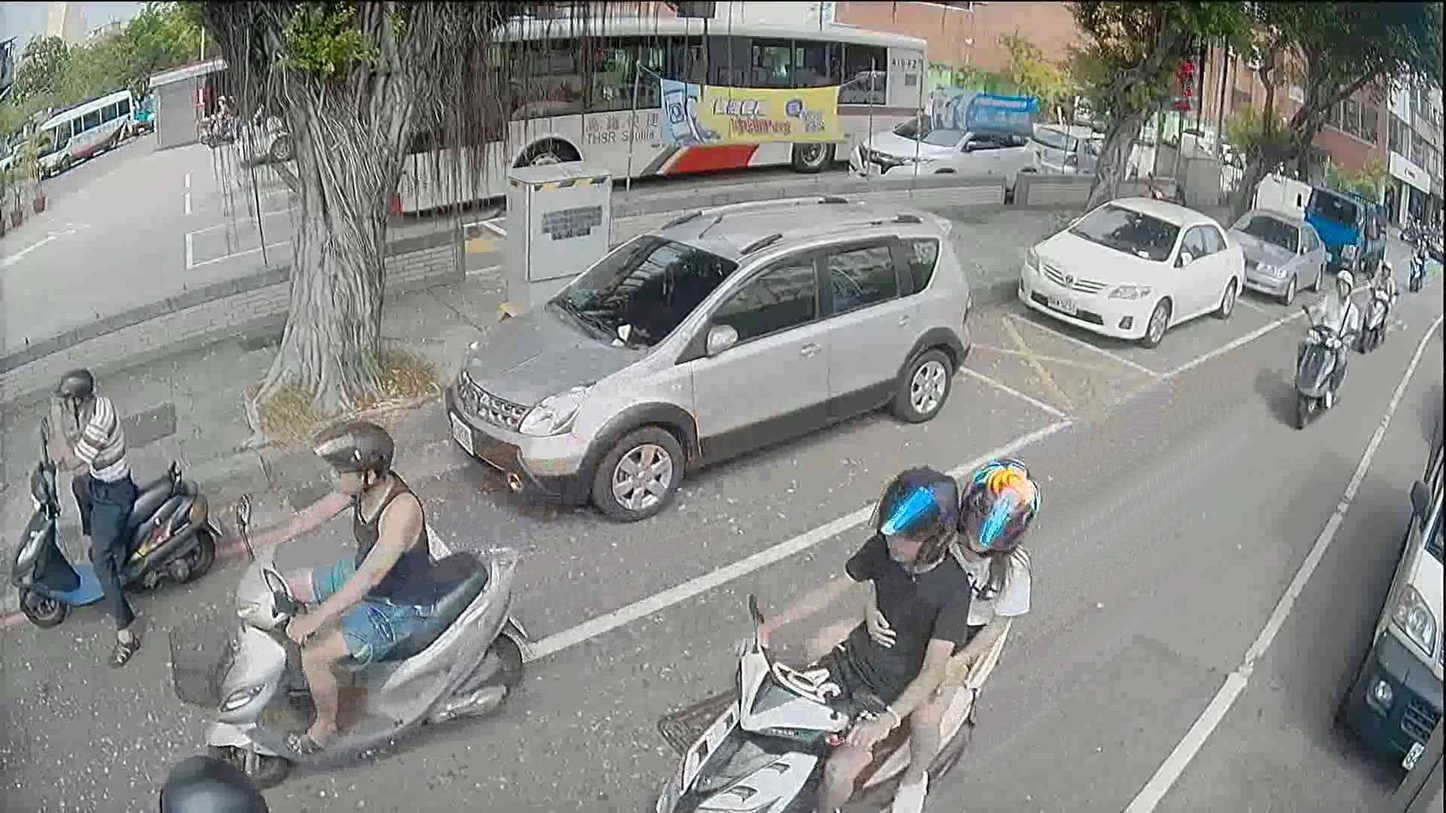person: (723, 461, 973, 812), (801, 467, 1042, 809), (260, 410, 441, 761), (32, 369, 147, 661), (1296, 266, 1358, 409), (151, 752, 275, 811), (1368, 258, 1394, 336), (208, 94, 230, 134), (1411, 235, 1426, 281)
